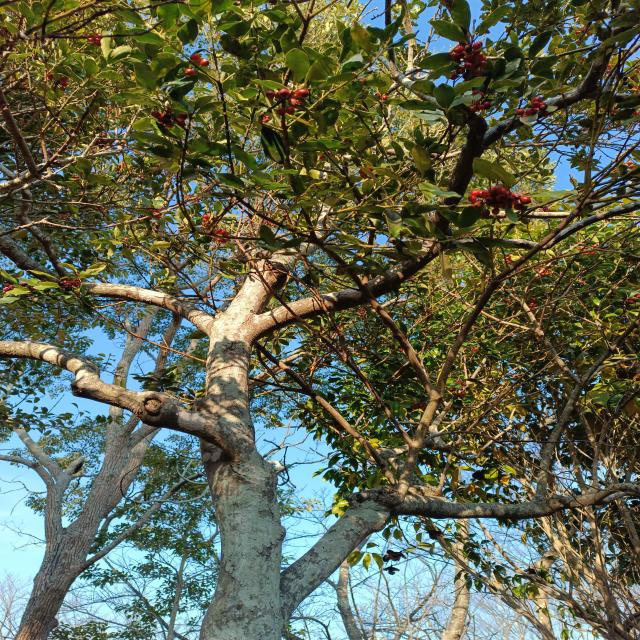Branch: (262, 67, 487, 337), (283, 483, 640, 621), (0, 340, 241, 454), (1, 228, 212, 335), (483, 46, 612, 151)
Twig: (211, 27, 433, 395), (438, 192, 592, 390), (253, 340, 398, 486), (398, 389, 441, 492), (384, 0, 399, 70), (377, 55, 390, 71)
